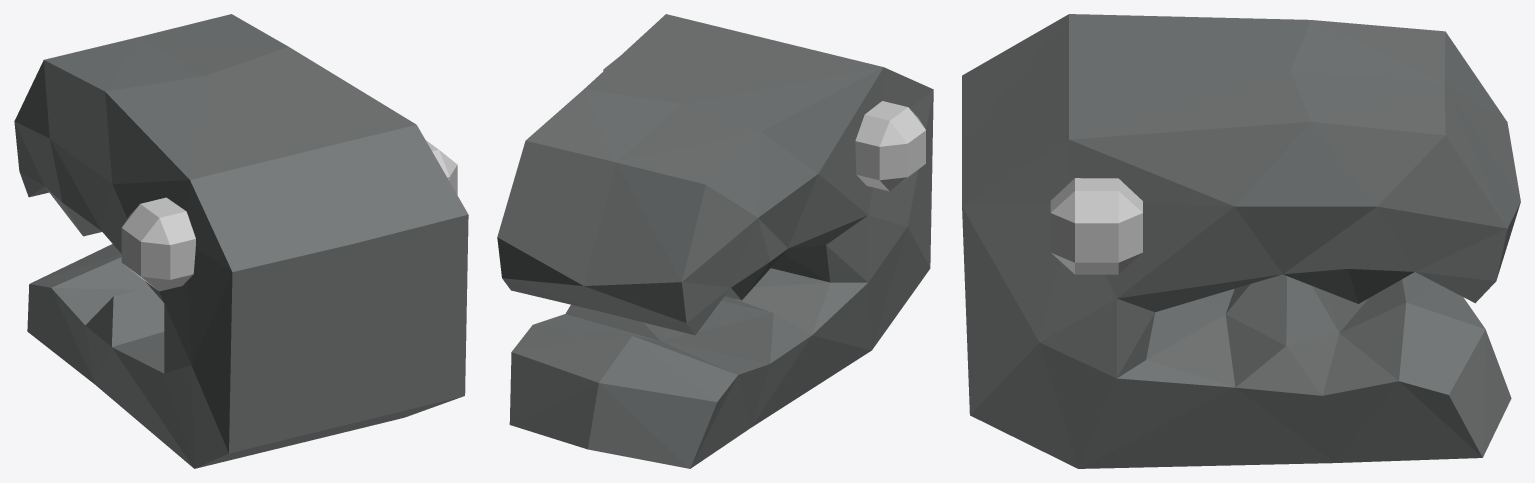
The model's file is PlayerHead.obj.
3 renders of one model, left to right at view 1: azimuth 30°, elevation 25°; view 2: azimuth 150°, elevation 25°; view 3: azimuth 270°, elevation 25°, orthographic. The views are drawn at different scales.
Parts seen in each view (by area): view 1: 頭_立方体; view 2: 頭_立方体; view 3: 頭_立方体.
Part boxes in pixels (x1,y1,x2,y2): 頭_立方体: (14,14,468,468); 頭_立方体: (497,14,933,468); 頭_立方体: (962,14,1520,468).
Size of the model in its own units: 2.68 by 2.43 by 3.61.
